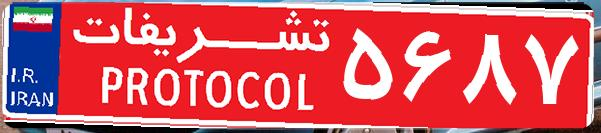5: (340, 20, 400, 115)
6: (400, 20, 460, 115)
7: (520, 20, 580, 115)
8: (460, 20, 520, 115)
تشریفات: (60, 8, 340, 125)
